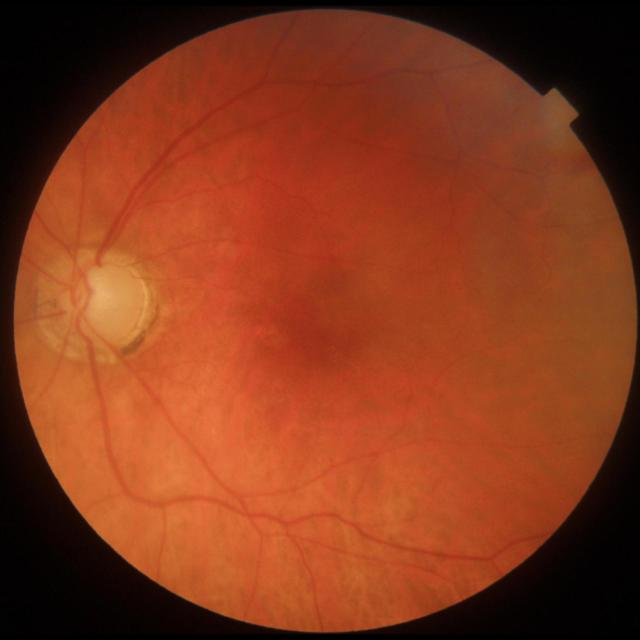OC: (72, 268, 116, 311)
OD: (36, 247, 148, 356)
